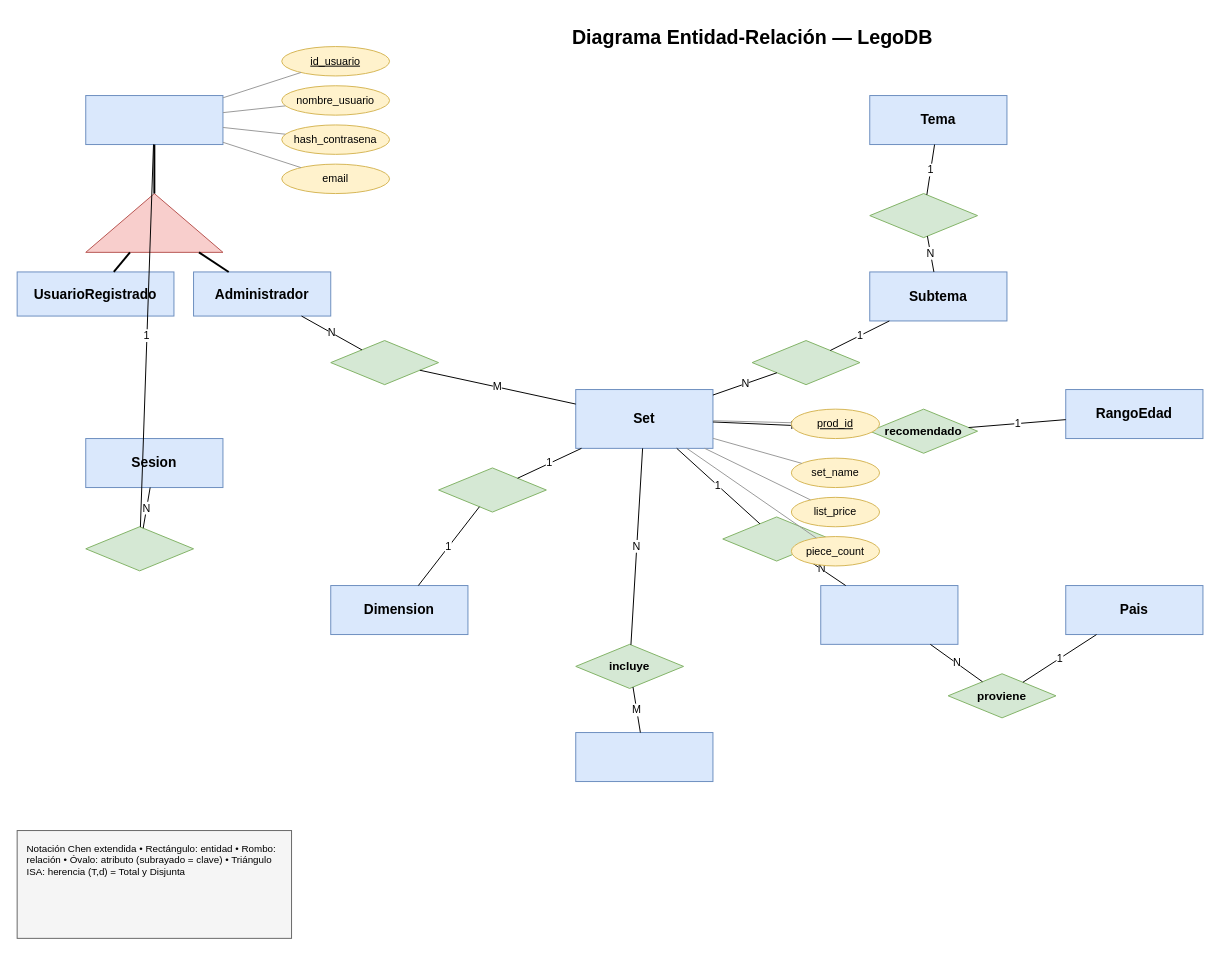
The diagram is 1220 pixels wide and 956 high, and some of its shapes have lost their labels. The centre of each missing label's shape, as x and y in pixels:
"clasificado" belongs at pixel 805 362.
"inicia" belongs at pixel 139 548.
"ISA (T, d)" belongs at pixel 154 222.
"Minifigura" belongs at pixel 644 757.
"modifica" belongs at pixel 384 362.
"pertenece_a" belongs at pixel 923 215.
"recibe" belongs at pixel 776 538.
"Resena" belongs at pixel 889 614.
"tiene_dim" belongs at pixel 492 489.
"Usuario" belongs at pixel 154 120.
